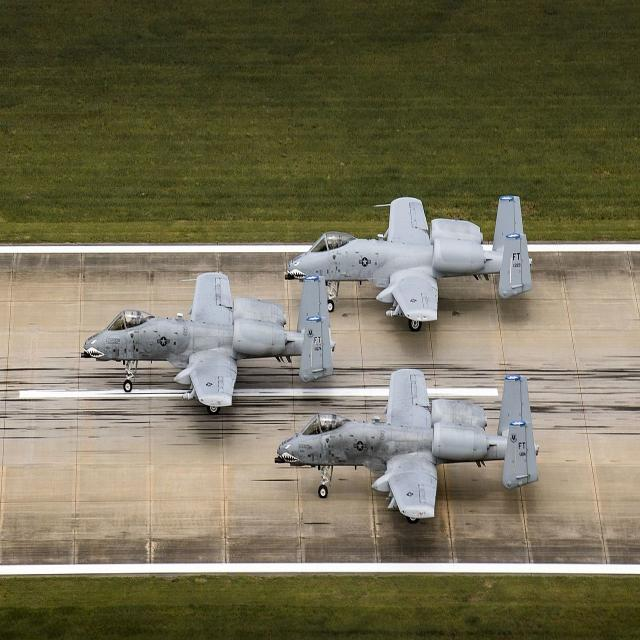MIL_Plane: (274, 368, 540, 523), (80, 271, 337, 413), (284, 195, 533, 332)
